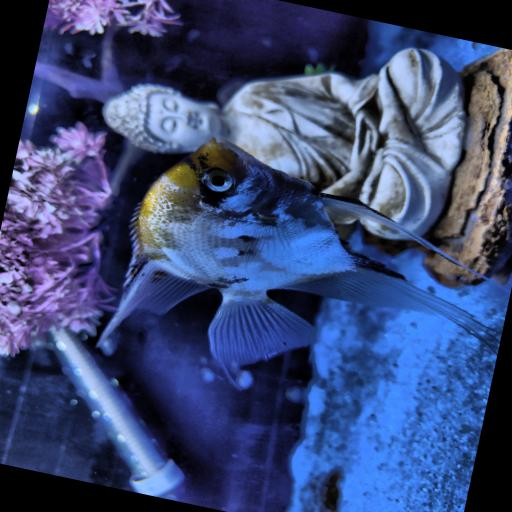Fish: (99, 137, 489, 364)
